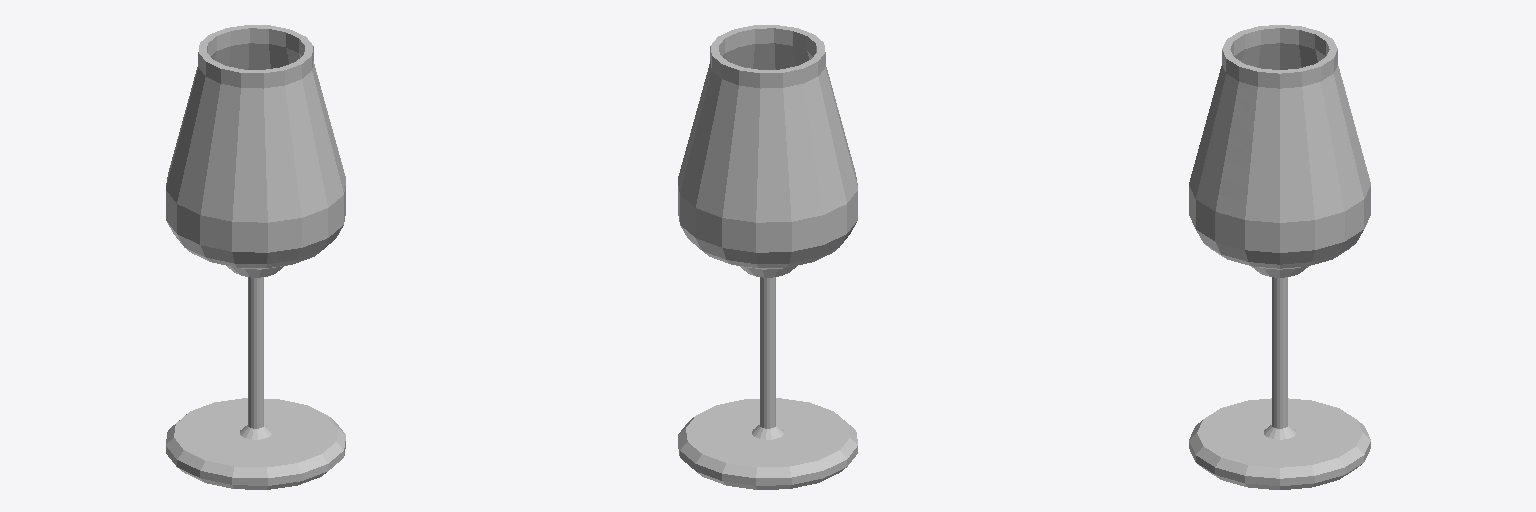
Rendered from lowwineglass.obj.
The picture shows the model from 3 angles: view 1: azimuth 30°, elevation 25°; view 2: azimuth 150°, elevation 25°; view 3: azimuth 270°, elevation 25°; orthographic projection.
Visible parts, largest first — view 1: nurbsToSubd1; view 2: nurbsToSubd1; view 3: nurbsToSubd1.
Part boxes in pixels (bbox=[...]): nurbsToSubd1: bbox=[166, 25, 345, 489]; nurbsToSubd1: bbox=[678, 25, 857, 489]; nurbsToSubd1: bbox=[1189, 25, 1370, 489].
Bounding box in the file's own units: 0.22 × 0.55 × 0.22.